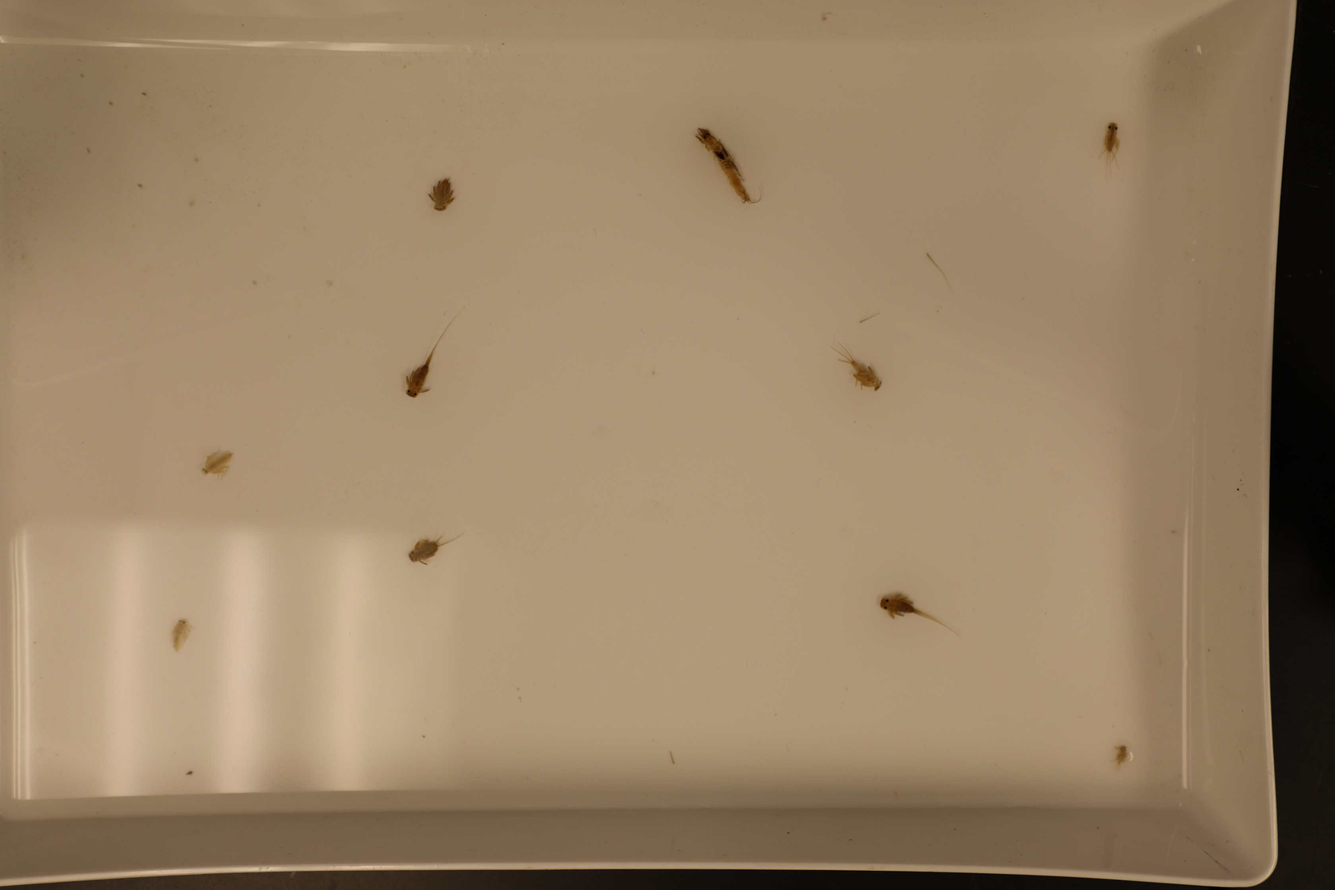Mayfly: (694, 124, 761, 208), (403, 314, 457, 403), (877, 593, 959, 641), (829, 343, 883, 395), (405, 532, 462, 570), (168, 609, 195, 656), (198, 447, 239, 477), (1100, 122, 1120, 177), (428, 173, 454, 215), (1111, 745, 1134, 766)
